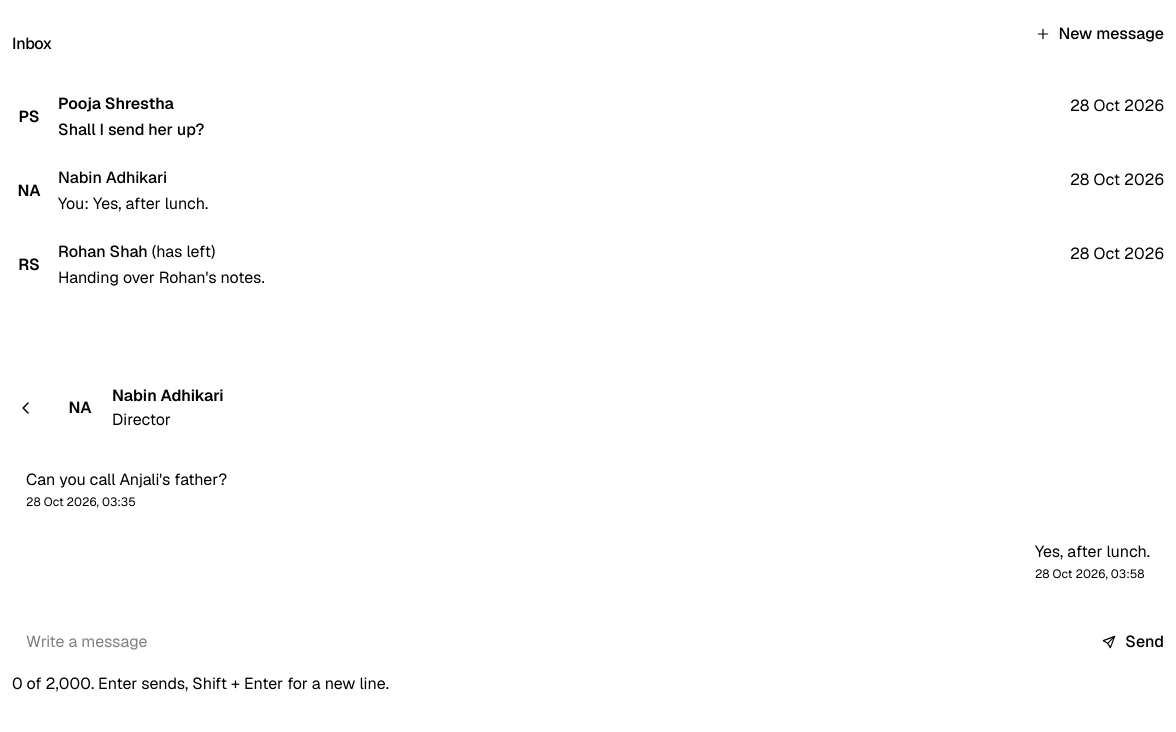
Test: Writing › shows the server's reason when the text is refused, keeping what was typed
The width and height of the screenshot is (1176, 732).
Type "Hi" into the text box named "Message to Nabin Adhikari" at (552, 642), box [12, 620, 1091, 664]
Then press Enter
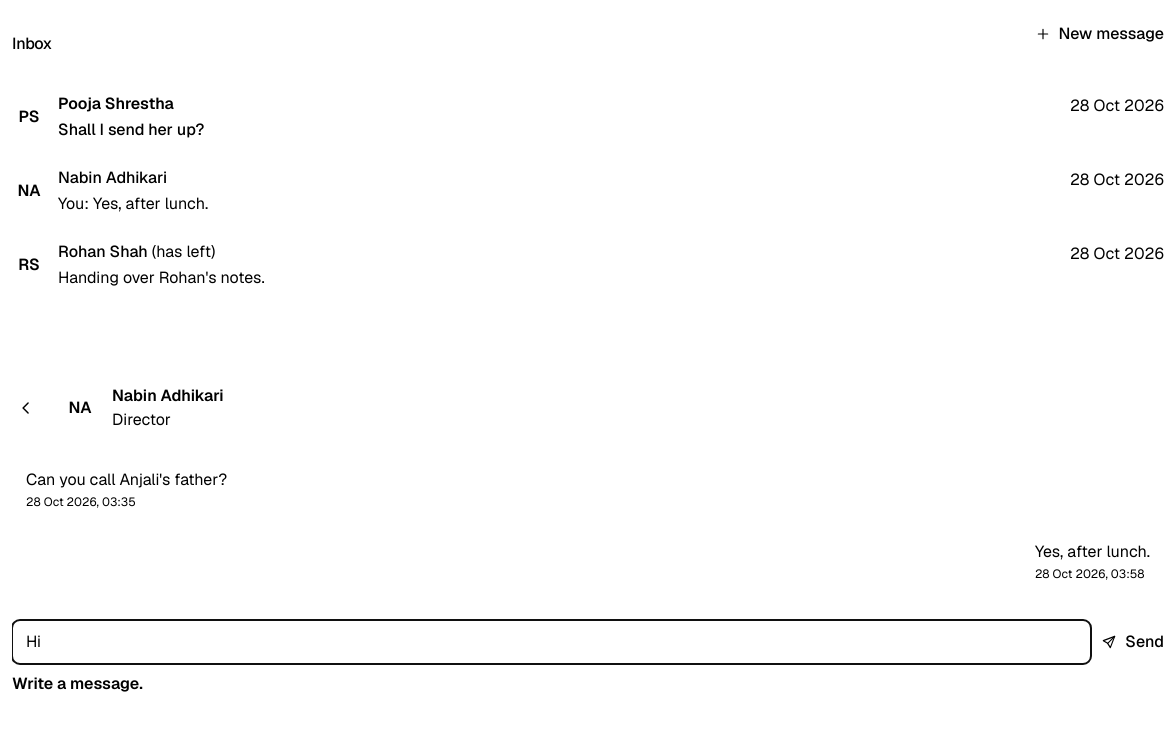
Now the text "Write a message." is shown, box [12, 673, 143, 694]
